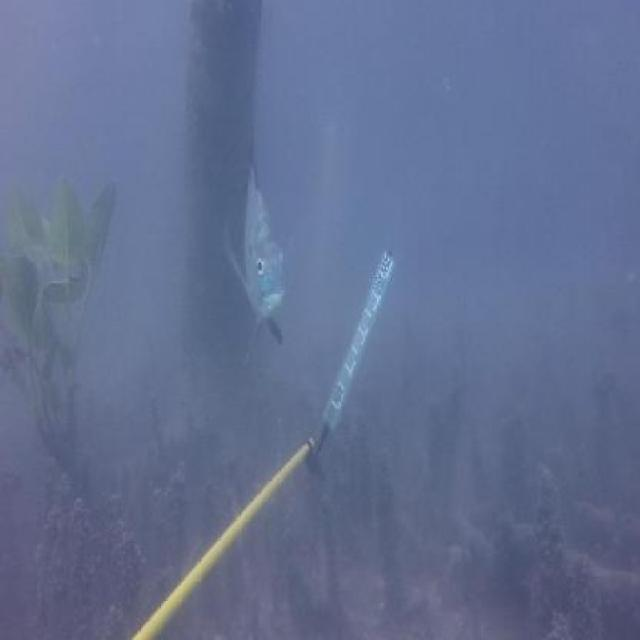acanthopagrus_palmaris: (218, 122, 292, 361)
